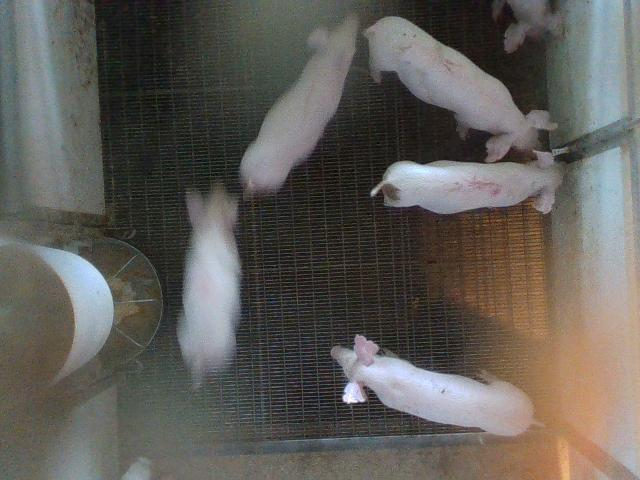pig-5: (370, 151, 564, 214)
